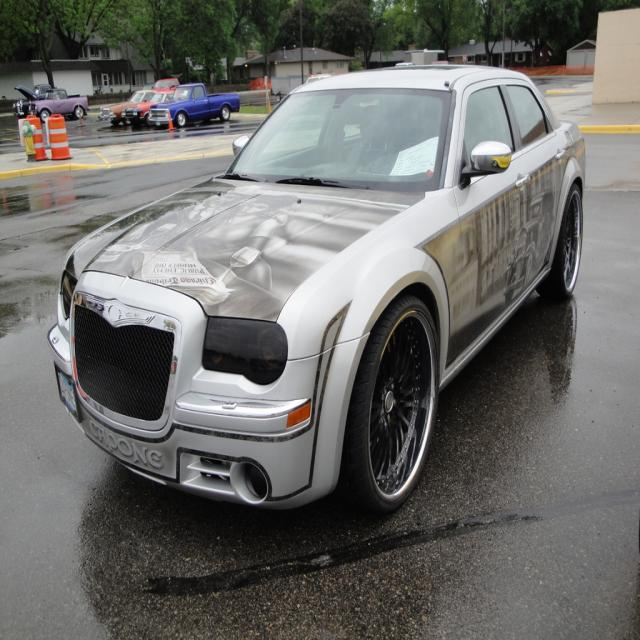car: (48, 63, 590, 520), (143, 76, 238, 126)
